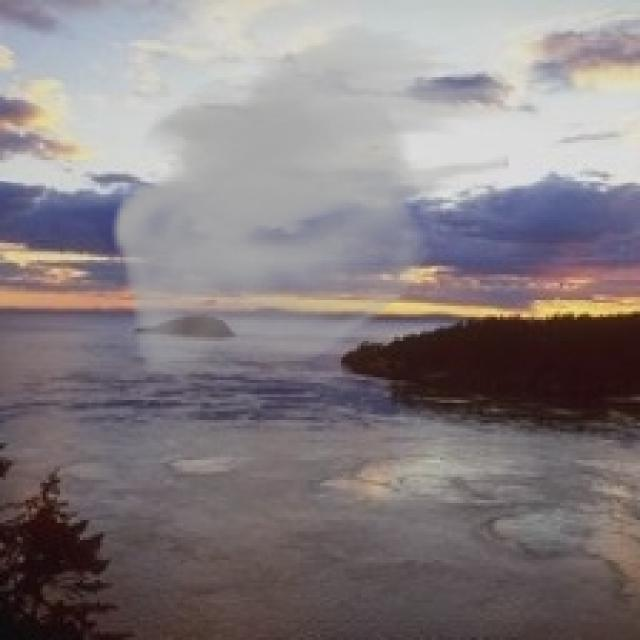Smoke: (111, 20, 508, 377)
